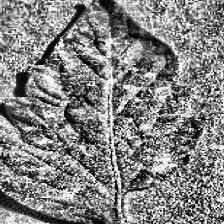disease: (0, 0, 204, 224)
